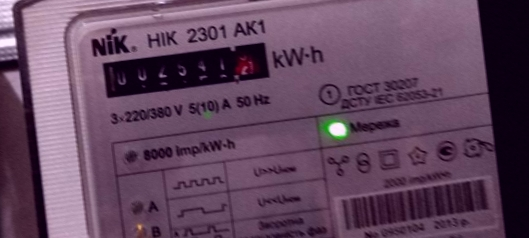0: (113, 62, 129, 85), (134, 58, 148, 80)
1: (214, 47, 228, 71)
2: (154, 55, 170, 78)
4: (194, 49, 208, 71)
5: (174, 52, 189, 77)
6: (238, 60, 250, 73)
screen: (89, 28, 283, 104)
